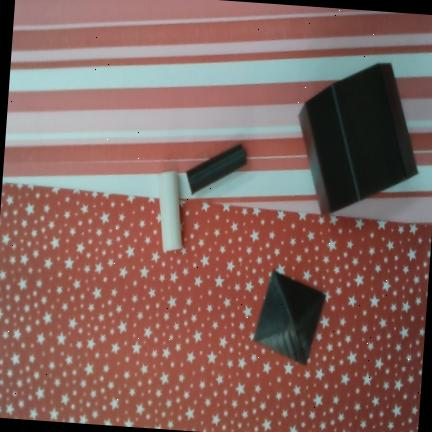Cilindro: (185, 144, 246, 195), (157, 171, 182, 253)
Piramide: (252, 269, 326, 366)
Prisma_hexagonal: (298, 62, 418, 214)
